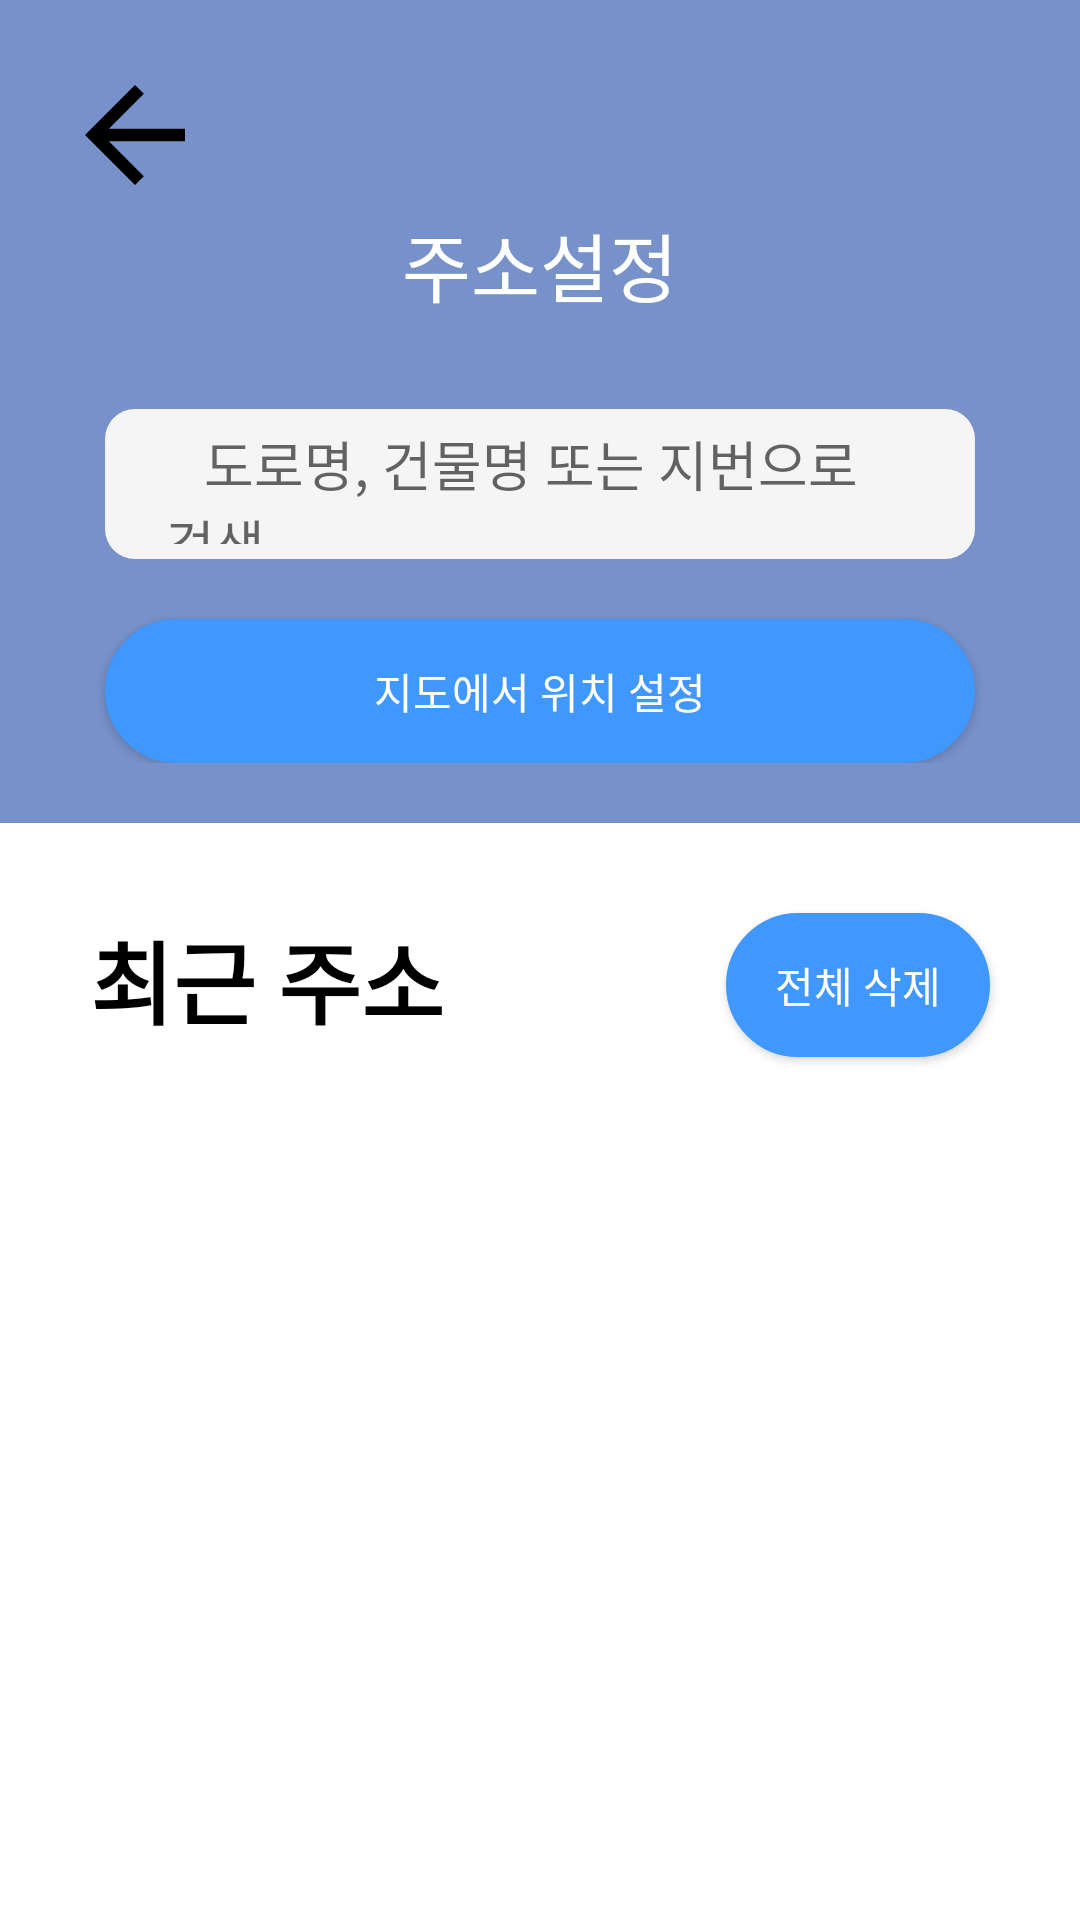

Screen size 1080w x 1920h. Icon name, then its center in pixels as (x=x, y=y):
arrow back: (x=135, y=135)
